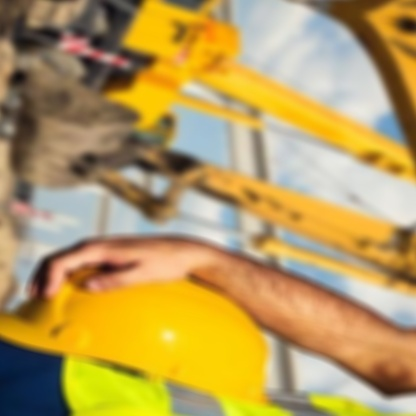yellow: (0, 215, 311, 416)
